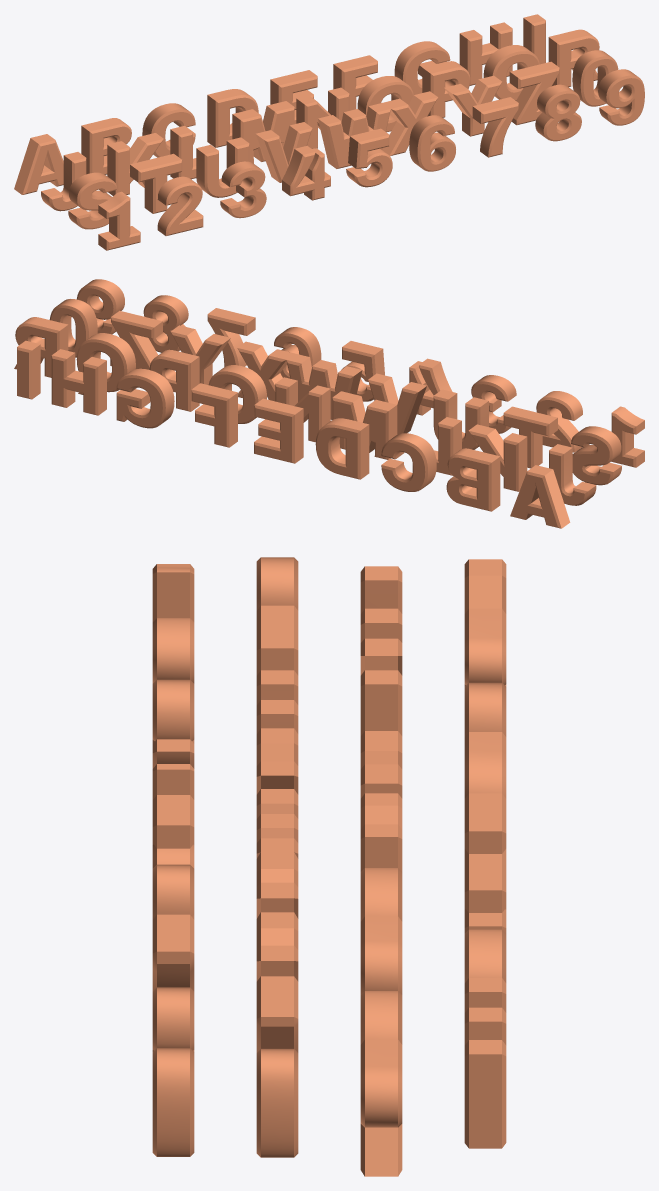
File: glyphs.glb
3 renders of one model, top to bottom at view 1: azimuth 30°, elevation 25°; view 2: azimuth 150°, elevation 25°; view 3: azimuth 270°, elevation 25°, orthographic. The views are drawn at different scales.
Parts seen in each view (by area): view 1: glyph_W, glyph_2, glyph_5, glyph_6, glyph_9, glyph_8, glyph_A, glyph_M, glyph_S, glyph_4, glyph_3, glyph_U (+24 smaller); view 2: glyph_B, glyph_G, glyph_H, glyph_E, glyph_D, glyph_C, glyph_S, glyph_A, glyph_M, glyph_W, glyph_F, glyph_K (+24 smaller); view 3: glyph_R, glyph_0, glyph_9, glyph_I, glyph_N, glyph_P, glyph_F, glyph_B, glyph_7, glyph_Z, glyph_5, glyph_T (+24 smaller).
Boxes of the visible parts, x1=… form: glyph_W: x1=318, y1=103, x2=390, y2=168; glyph_2: x1=157, y1=176, x2=203, y2=235; glyph_5: x1=346, y1=128, x2=392, y2=187; glyph_6: x1=409, y1=115, x2=455, y2=171; glyph_9: x1=598, y1=69, x2=644, y2=125; glyph_8: x1=535, y1=84, x2=581, y2=141; glyph_A: x1=14, y1=134, x2=63, y2=194; glyph_M: x1=232, y1=101, x2=294, y2=163; glyph_S: x1=68, y1=172, x2=117, y2=229; glyph_4: x1=282, y1=145, x2=330, y2=200; glyph_3: x1=220, y1=161, x2=266, y2=218; glyph_U: x1=196, y1=137, x2=249, y2=197; glyph_B: x1=446, y1=448, x2=500, y2=511; glyph_G: x1=116, y1=368, x2=174, y2=428; glyph_H: x1=51, y1=349, x2=106, y2=415; glyph_E: x1=254, y1=398, x2=303, y2=463; glyph_D: x1=315, y1=418, x2=369, y2=479; glyph_C: x1=381, y1=433, x2=436, y2=491; glyph_S: x1=571, y1=426, x2=621, y2=485; glyph_A: x1=510, y1=465, x2=570, y2=528; glyph_M: x1=332, y1=391, x2=397, y2=459; glyph_W: x1=286, y1=353, x2=362, y2=419; glyph_F: x1=191, y1=383, x2=237, y2=447; glyph_K: x1=468, y1=424, x2=527, y2=491; glyph_R: x1=360, y1=1039, x2=402, y2=1176; glyph_0: x1=256, y1=1048, x2=298, y2=1157; glyph_9: x1=152, y1=1048, x2=194, y2=1156; glyph_I: x1=464, y1=1040, x2=506, y2=1148; glyph_N: x1=360, y1=793, x2=402, y2=871; glyph_P: x1=360, y1=916, x2=402, y2=994; glyph_F: x1=464, y1=855, x2=506, y2=933; glyph_B: x1=464, y1=608, x2=506, y2=686; glyph_7: x1=152, y1=914, x2=194, y2=990; glyph_Z: x1=256, y1=976, x2=298, y2=1052; glyph_5: x1=152, y1=795, x2=194, y2=868; glyph_T: x1=256, y1=605, x2=298, y2=675.
Size of the model in its own units: 12.27 by 1.21 by 3.4.
